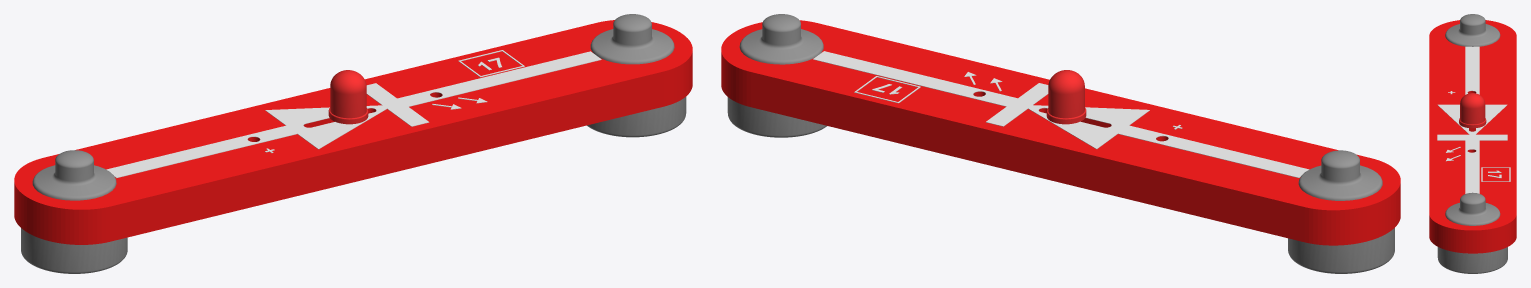
Rendered from Diode.FBX.
3 views of the same model, side by side, from view 1: azimuth 30°, elevation 25°; view 2: azimuth 150°, elevation 25°; view 3: azimuth 270°, elevation 25° (orthographic). The views are drawn at different scales.
Visible parts, largest first — view 1: Base, Text, ButtonUp (×2), ButtonDown (×2), Capsule001; view 2: Base, Text, ButtonUp (×2), ButtonDown (×2), Capsule001; view 3: Base, Text (×2), ButtonUp (×2), ButtonDown, Capsule001.
Boxes of the visible parts, left/top/right/bottom form: Base: left=14, top=20, right=692, bottom=244; Text: left=106, top=51, right=601, bottom=178; ButtonUp (×2): left=32, top=14, right=674, bottom=200; ButtonDown (×2): left=21, top=96, right=686, bottom=273; Capsule001: left=328, top=70, right=368, bottom=124; Base: left=721, top=20, right=1400, bottom=245; Text: left=813, top=51, right=1309, bottom=177; ButtonUp (×2): left=739, top=14, right=1382, bottom=200; ButtonDown (×2): left=727, top=97, right=1394, bottom=273; Capsule001: left=1046, top=70, right=1086, bottom=124; Base: left=1429, top=20, right=1516, bottom=253; Text (×2): left=1437, top=46, right=1510, bottom=193; ButtonUp (×2): left=1445, top=14, right=1500, bottom=225; ButtonDown: left=1437, top=247, right=1507, bottom=273; Capsule001: left=1459, top=93, right=1486, bottom=128.
Size of the model in its own units: 94.09 by 15.48 by 16.49.
